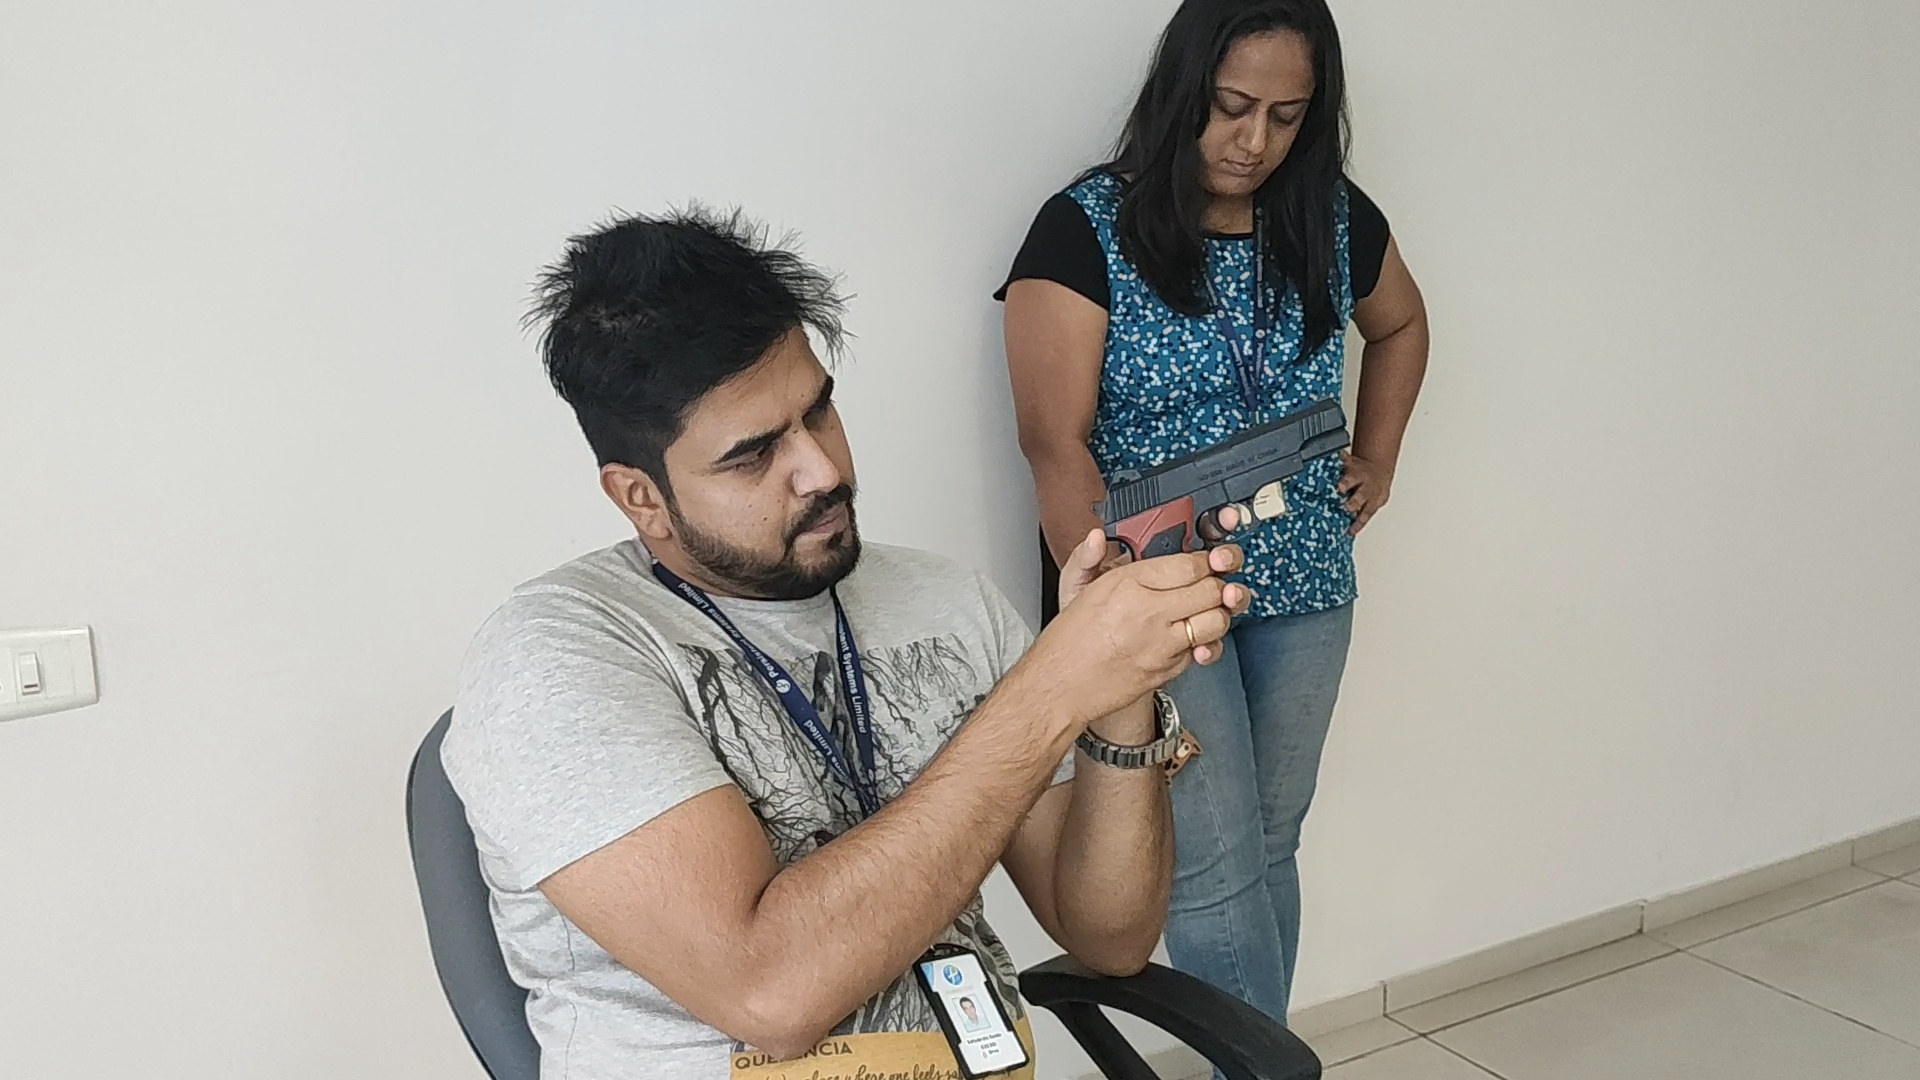gun: (1088, 400, 1350, 526)
